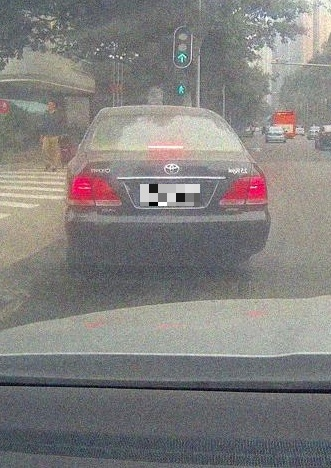L_light: (66, 176, 123, 206)
R_light: (219, 176, 269, 205)
T_light: (147, 144, 183, 150)
day-brake: (64, 105, 271, 268)
plate_1: (140, 184, 200, 206)
